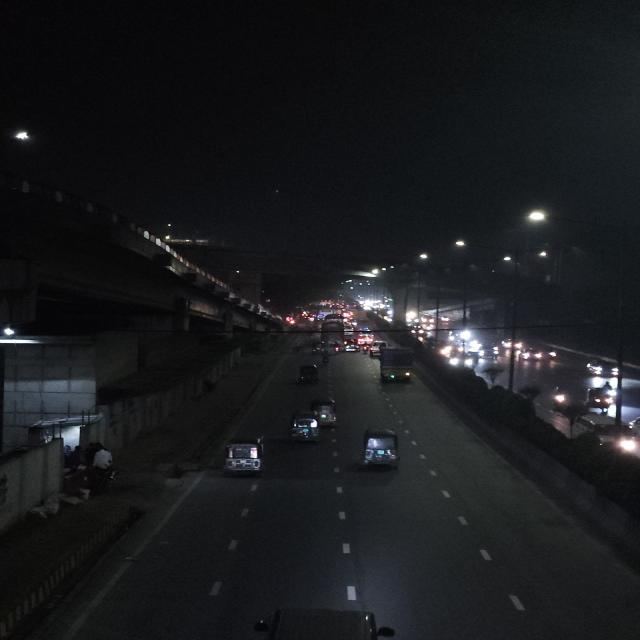bus: (318, 322, 347, 345)
car: (556, 410, 640, 458), (585, 358, 619, 379), (527, 348, 560, 364), (519, 346, 542, 362), (344, 340, 359, 352)
cng: (218, 434, 269, 479), (358, 426, 404, 475), (288, 411, 322, 445), (309, 394, 340, 428), (296, 363, 322, 385)
motorcycle: (59, 443, 123, 505), (550, 382, 569, 410), (599, 380, 617, 406), (538, 348, 560, 362), (320, 353, 330, 367), (331, 342, 341, 354)
truck: (250, 602, 405, 640), (378, 347, 415, 385)
